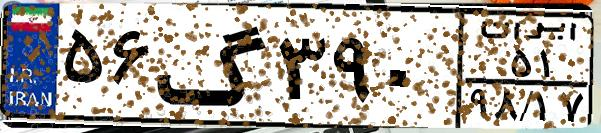0: (385, 28, 445, 110)
1: (537, 27, 568, 80), (535, 70, 560, 125)
3: (270, 28, 330, 110)
5: (57, 26, 110, 100), (508, 27, 537, 80)
6: (110, 28, 156, 98)
7: (560, 70, 590, 125)
8: (495, 70, 520, 125)
9: (330, 28, 385, 110), (470, 70, 495, 125)
گ: (156, 12, 270, 120)
